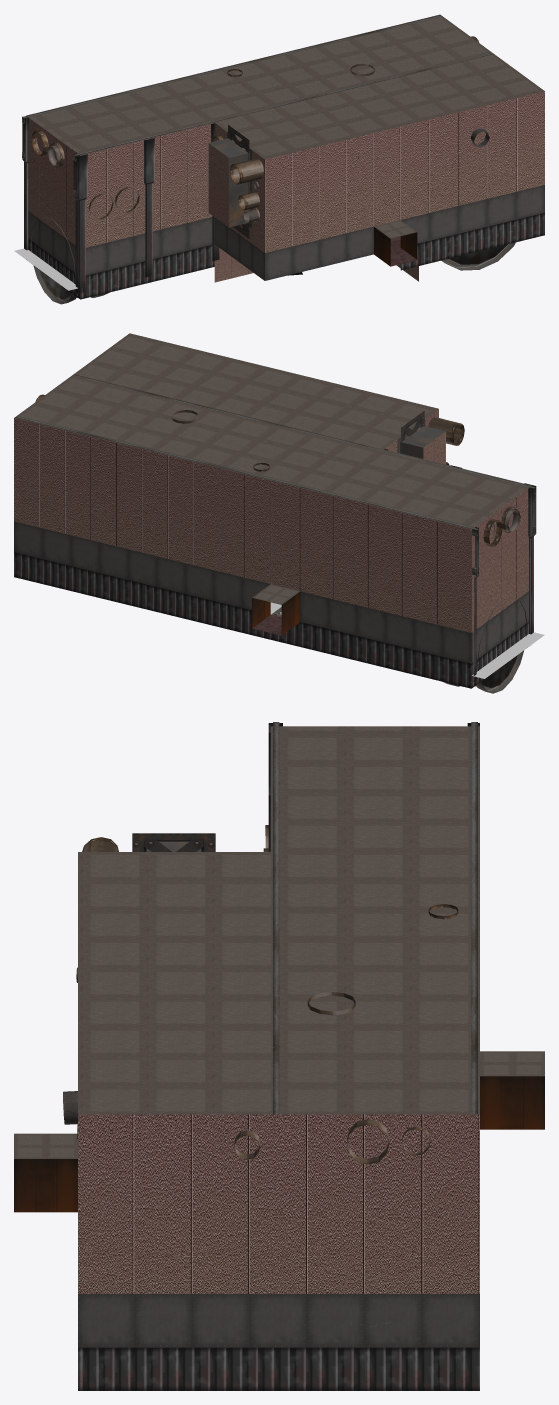
The model's file is molten_Lshape.fbx.
3 renders of one model, top to bottom at view 1: azimuth 30°, elevation 25°; view 2: azimuth 150°, elevation 25°; view 3: azimuth 270°, elevation 25°, orthographic. The views are drawn at different scales.
Parts seen in each view (by area): view 1: Wall, SupportBeams, Bearings, BigPipe, Floor, Pipes, LavaPlane, Covers; view 2: Wall, SupportBeams, Bearings, BigPipe, LavaPlane; view 3: Wall, SupportBeams, Bearings, Covers.
Part boxes in pixels (x1,y1,x2,y2): Wall: (26, 14, 544, 299); SupportBeams: (22, 15, 493, 293); Bearings: (31, 36, 479, 222); BigPipe: (30, 217, 515, 304); Floor: (214, 236, 418, 282); Pipes: (47, 128, 489, 226); LavaPlane: (14, 248, 77, 290); Covers: (228, 125, 249, 238); Wall: (14, 333, 531, 688); SupportBeams: (15, 374, 536, 682); Bearings: (35, 394, 517, 546); BigPipe: (442, 597, 527, 693); LavaPlane: (270, 602, 544, 678); Wall: (14, 726, 544, 1390); SupportBeams: (268, 722, 479, 1114); Bearings: (82, 825, 458, 1223); Covers: (132, 833, 215, 851).
Bounding box in the file's own units: 7111 × 2762 × 3941.
